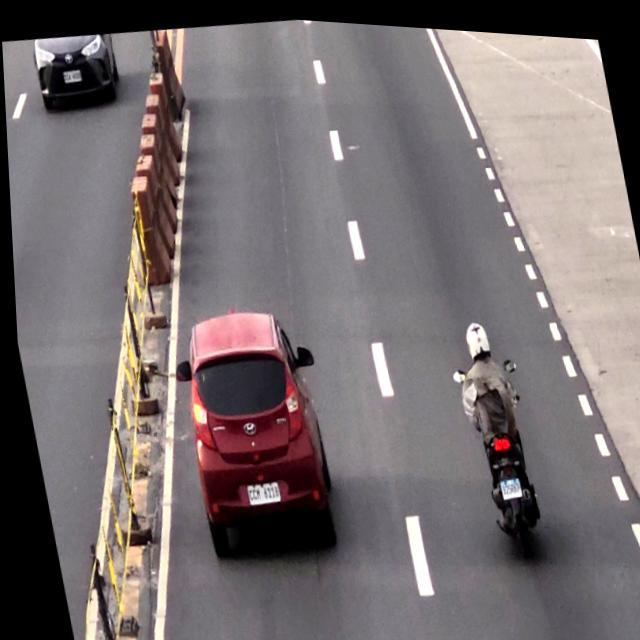Car: (164, 301, 342, 564)
License-Plate: (237, 475, 278, 506), (492, 470, 521, 495)
Motorcycle: (452, 311, 544, 554)
